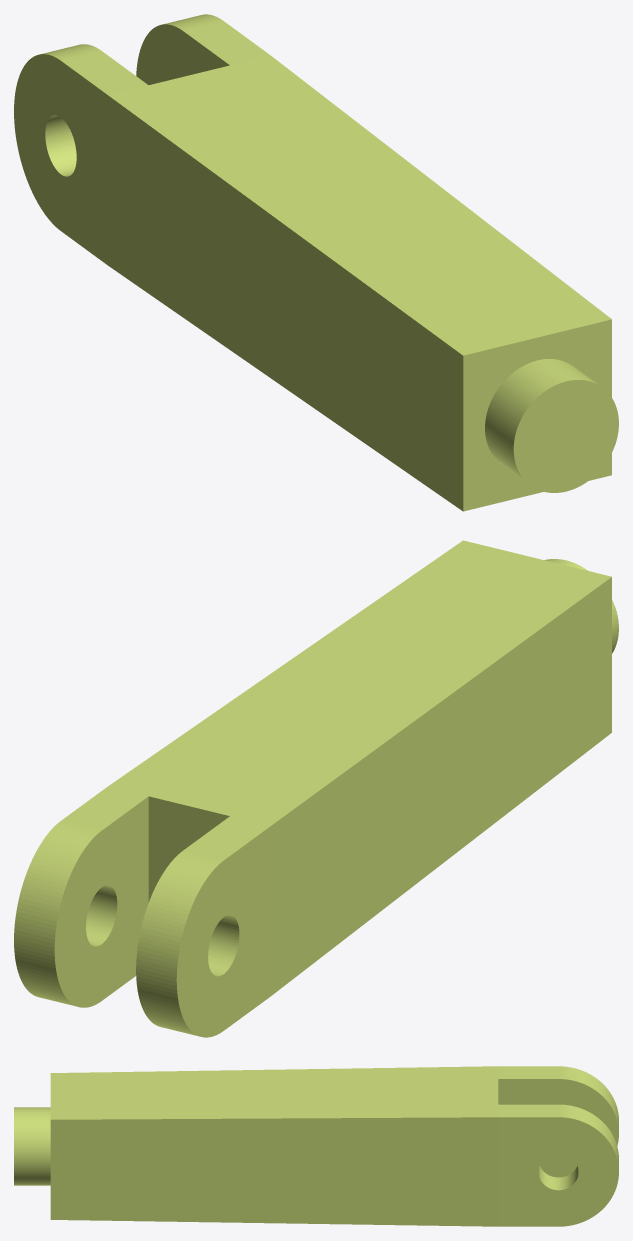
3 views of the same model, one above another, from view 1: azimuth 30°, elevation 25°; view 2: azimuth 150°, elevation 25°; view 3: azimuth 270°, elevation 25° (orthographic). The views are drawn at different scales.
Visible parts, largest first — view 1: node; view 2: node; view 3: node.
Boxes of the visible parts, <box> form: node: <box>14,14,618,511</box>; node: <box>14,540,618,1037</box>; node: <box>14,1066,618,1226</box>.
Bounding box in the file's own units: 0.0675 × 0.0675 × 0.338.
